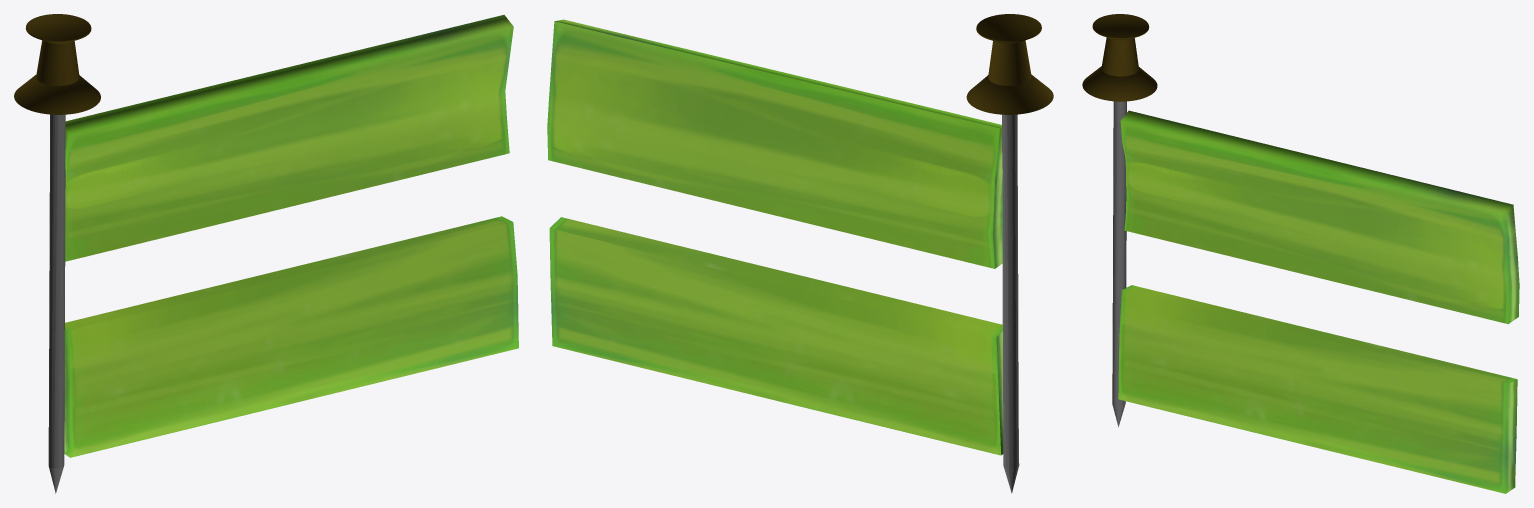
The model's file is caobanweiqiang.fbx.
The picture shows the model from 3 angles, left to right: view 1: azimuth 30°, elevation 25°; view 2: azimuth 150°, elevation 25°; view 3: azimuth 330°, elevation 25°; orthographic projection. The views are drawn at different scales.
Parts seen in each view (by area): view 1: 对象001; view 2: 对象001; view 3: 对象001.
Boxes of the visible parts, bbox=[...] form: 对象001: bbox=[14, 14, 518, 493]; 对象001: bbox=[547, 14, 1053, 493]; 对象001: bbox=[1082, 14, 1519, 493].
Size of the model in its own units: 21.07 by 19.16 by 3.23.
